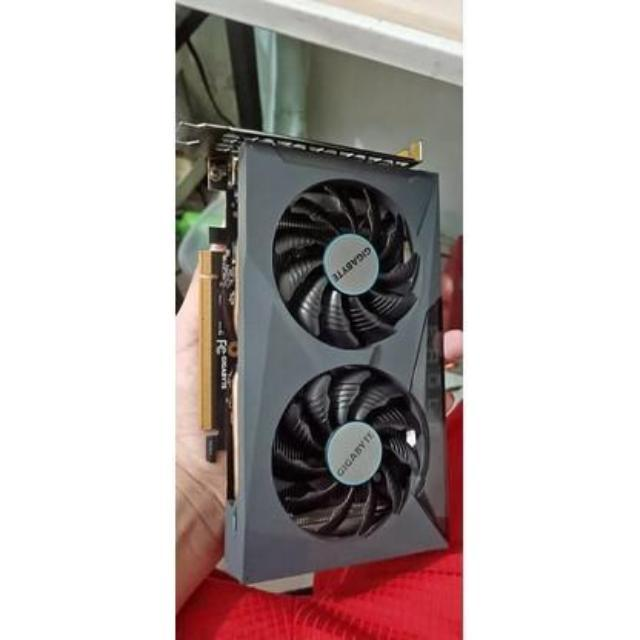GPU: (177, 120, 455, 603)
